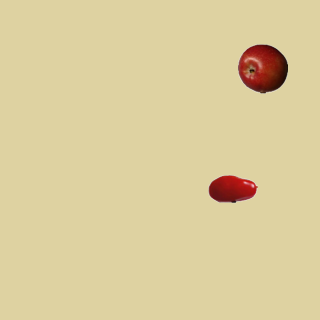Apple Braeburn: (237, 43, 287, 93)
Tomato 2: (207, 163, 257, 213)
